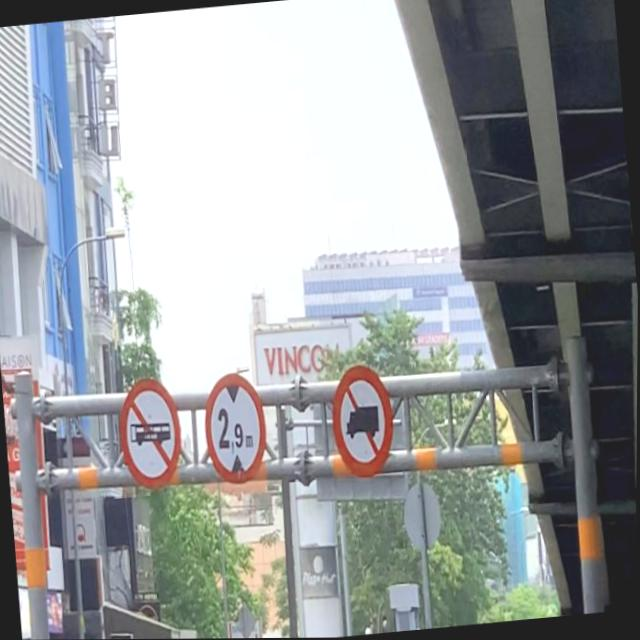Cam xe tai: (327, 362, 399, 482)
Han che chieu cao: (201, 370, 272, 488)
